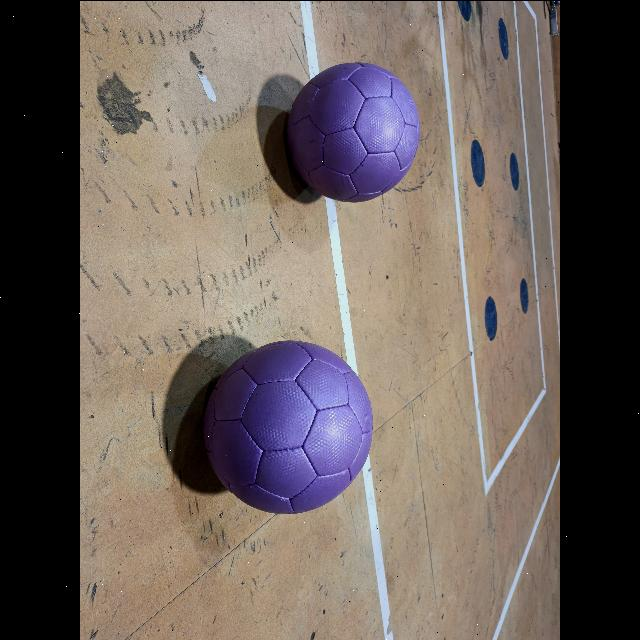P: (204, 340, 372, 512), (288, 62, 420, 202)
